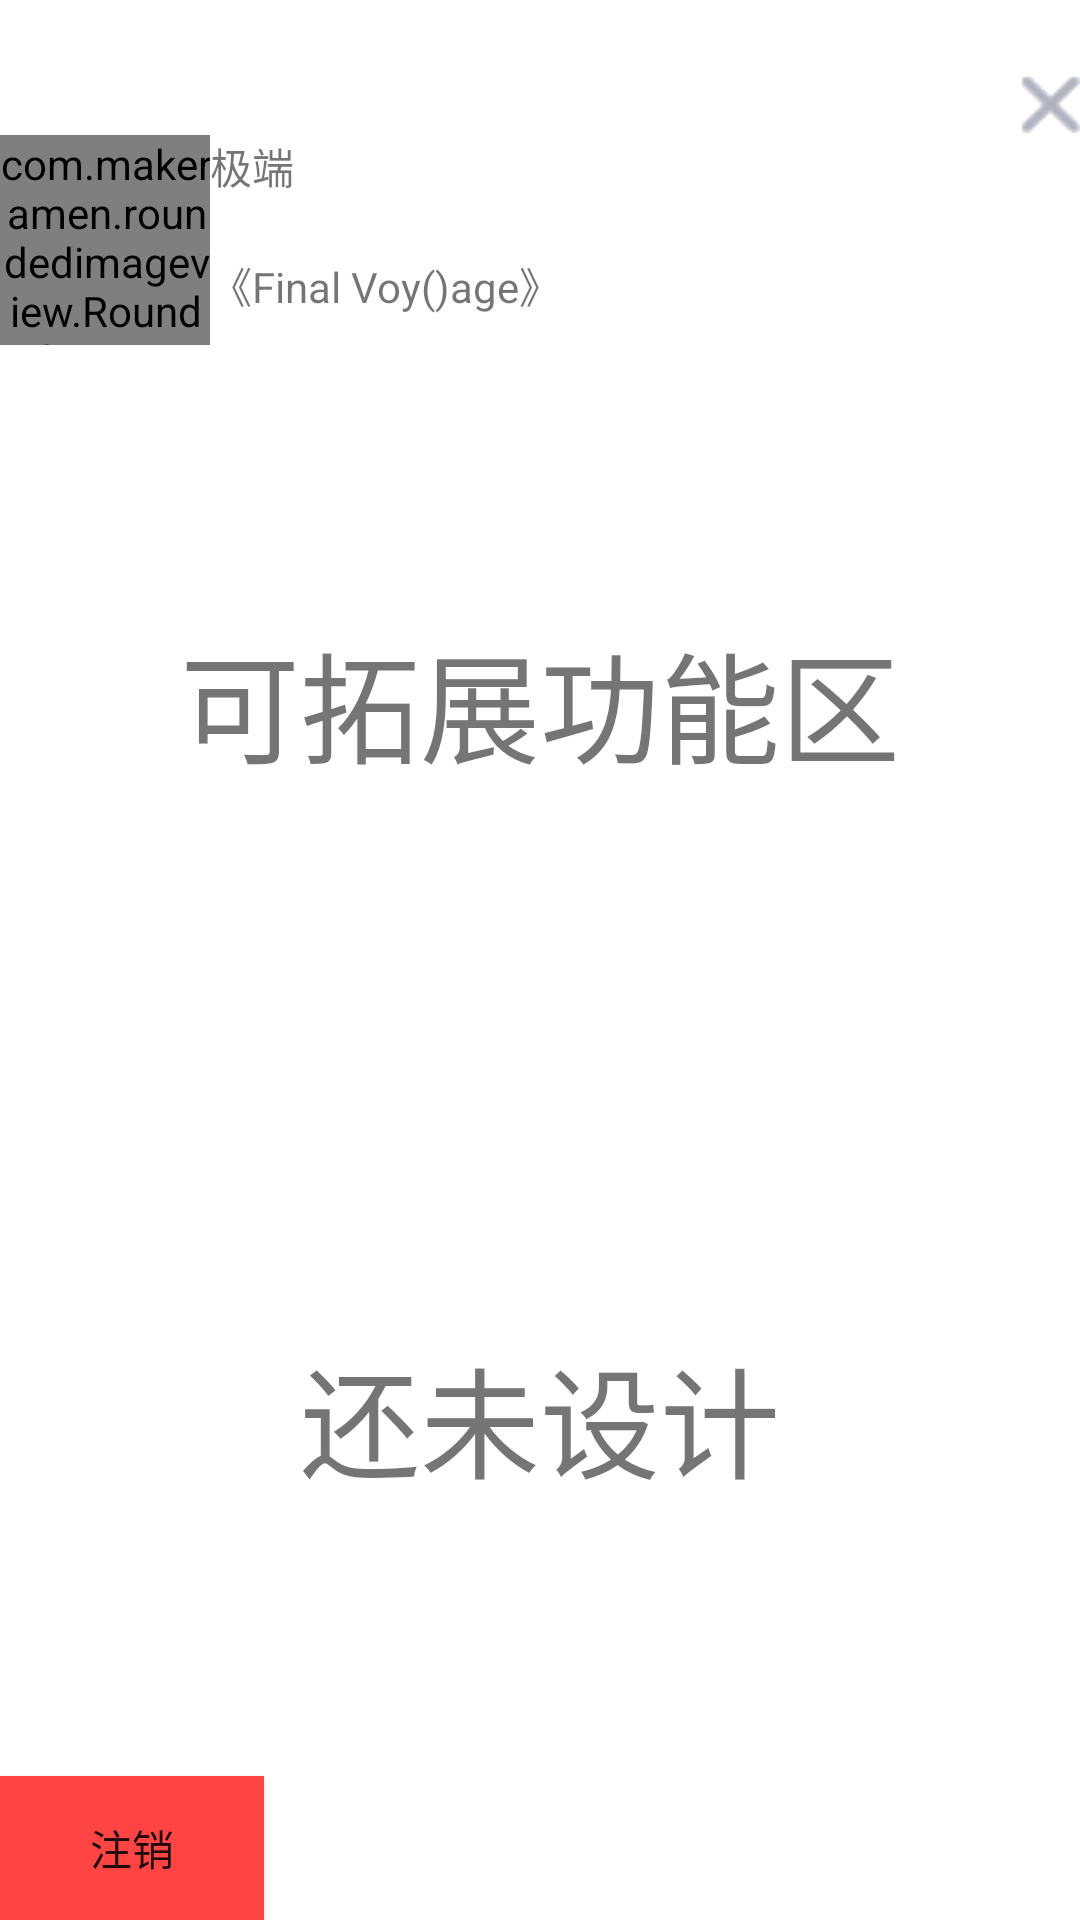

Icon click points for this 1080w x 1920h phone screenshot, format point (x, y):
delete: point (1051, 105)
